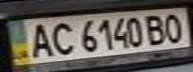0: (127, 15, 145, 48)
1: (93, 16, 115, 51)
4: (112, 15, 133, 49)
6: (75, 17, 100, 53)
A: (24, 21, 54, 59)
B: (142, 12, 169, 46)
C: (45, 20, 78, 56)
O: (160, 11, 190, 44)
